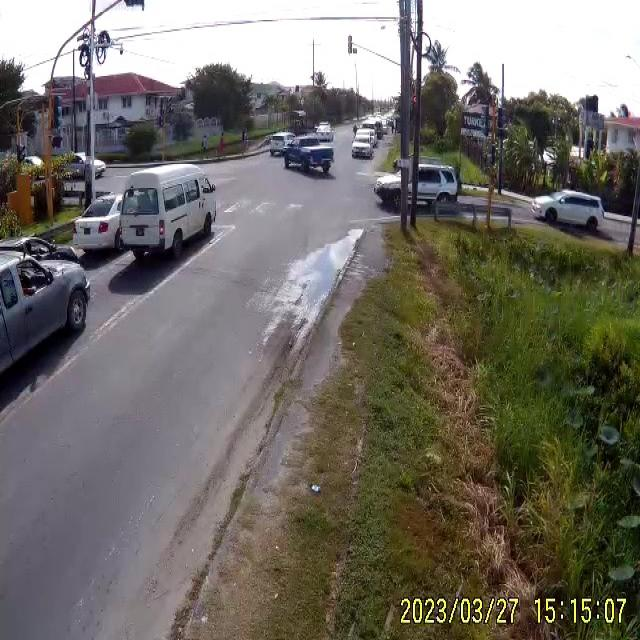car: (1, 241, 92, 445), (117, 167, 213, 261), (375, 166, 461, 211), (531, 192, 604, 235), (76, 195, 126, 253), (286, 140, 334, 177), (268, 132, 295, 156), (354, 126, 376, 150), (352, 138, 375, 158)
